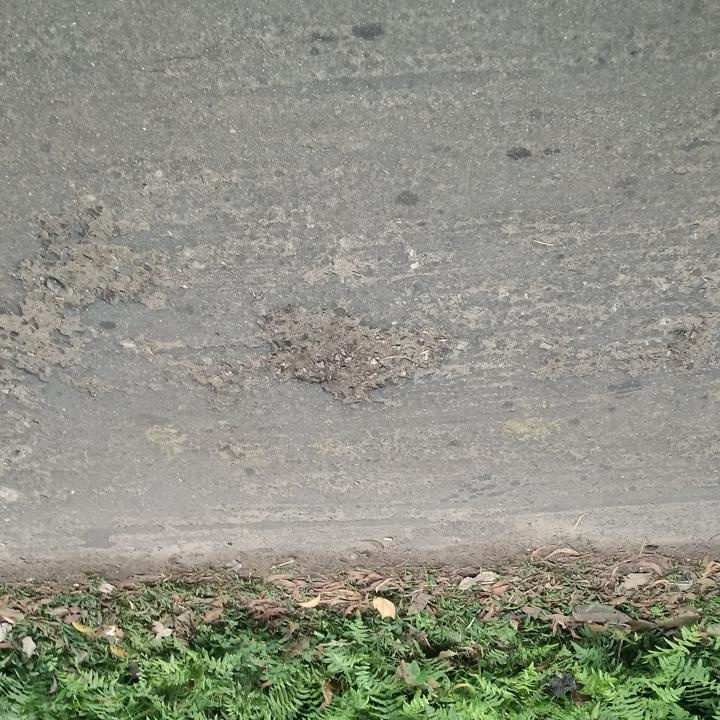pothole: (259, 302, 452, 405), (11, 229, 163, 309), (0, 312, 76, 378)
